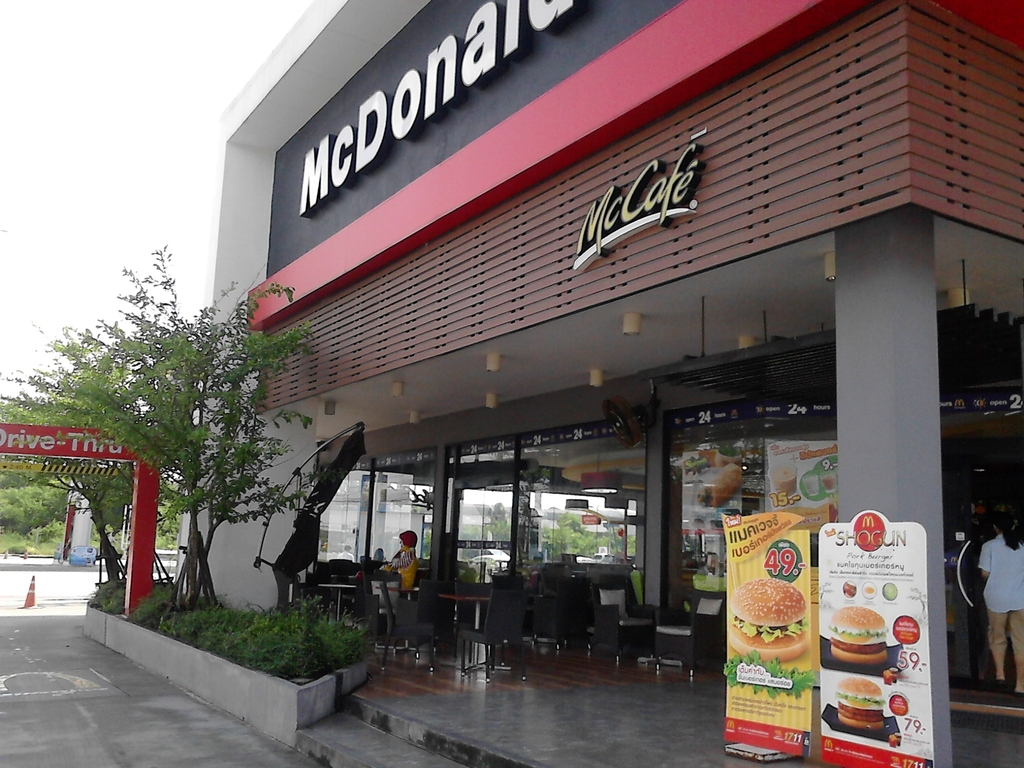Hamburger: (725, 578, 810, 660), (830, 606, 888, 664), (835, 676, 887, 730)
